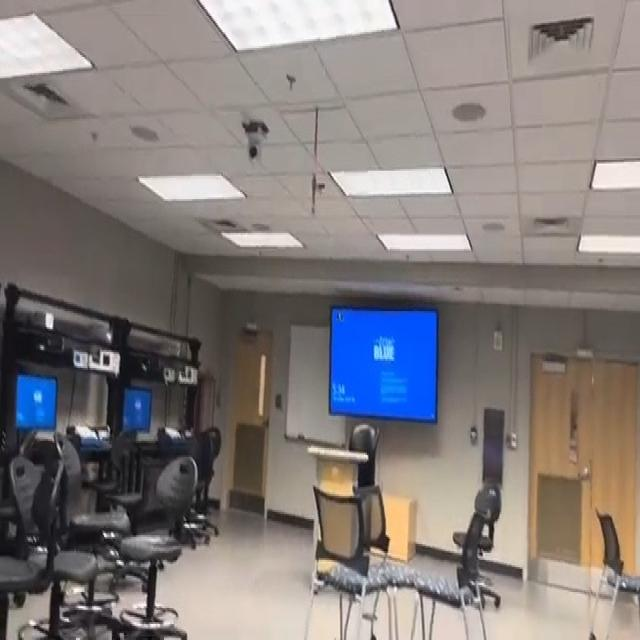drone: (327, 295, 353, 338)
